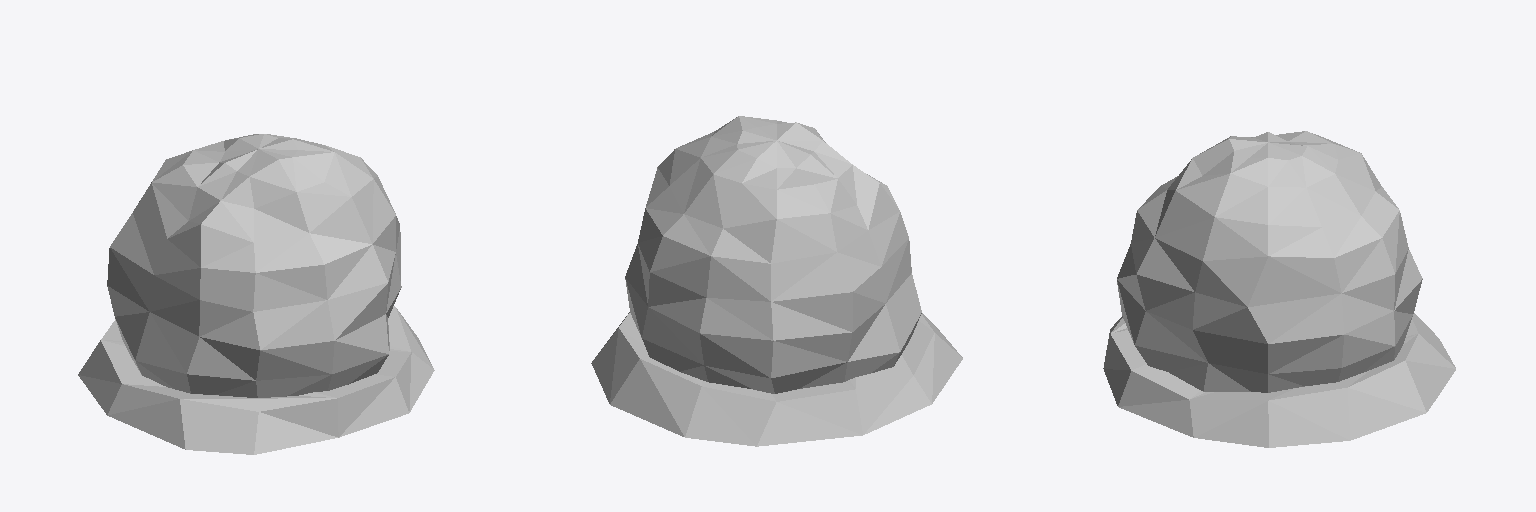
File: boulder.obj
The picture shows the model from 3 angles: view 1: azimuth 30°, elevation 25°; view 2: azimuth 150°, elevation 25°; view 3: azimuth 270°, elevation 25°; orthographic projection.
Visible parts, largest first — view 1: pSphere2; view 2: pSphere2; view 3: pSphere2.
Part boxes in pixels (left/top/right/bottom): pSphere2: left=78, top=134, right=434, bottom=454; pSphere2: left=591, top=116, right=962, bottom=446; pSphere2: left=1103, top=131, right=1455, bottom=447.
Size of the model in its own units: 2.38 by 1.68 by 2.33.